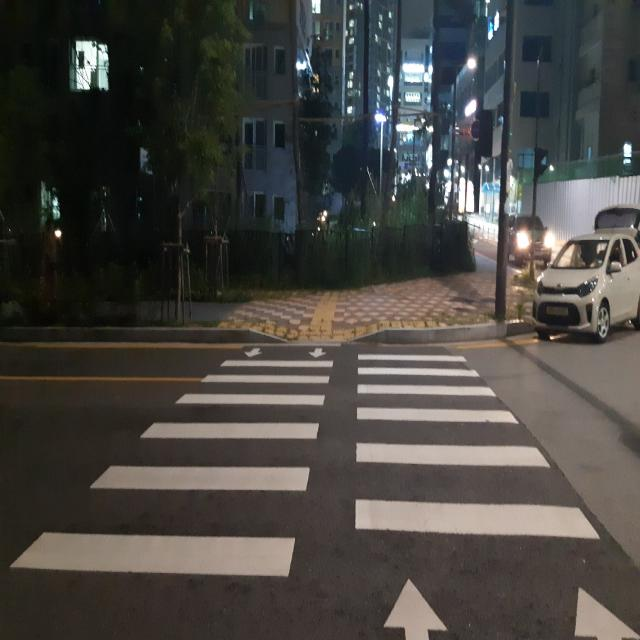횡단보도: (9, 348, 640, 639)
